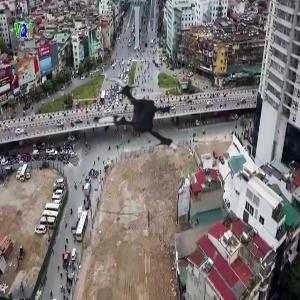drone: (84, 69, 187, 172)
